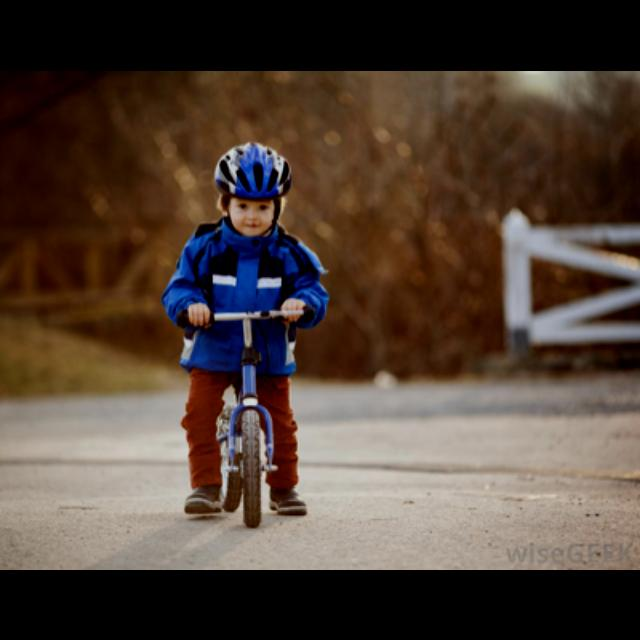With Helmet: (205, 134, 315, 242)
